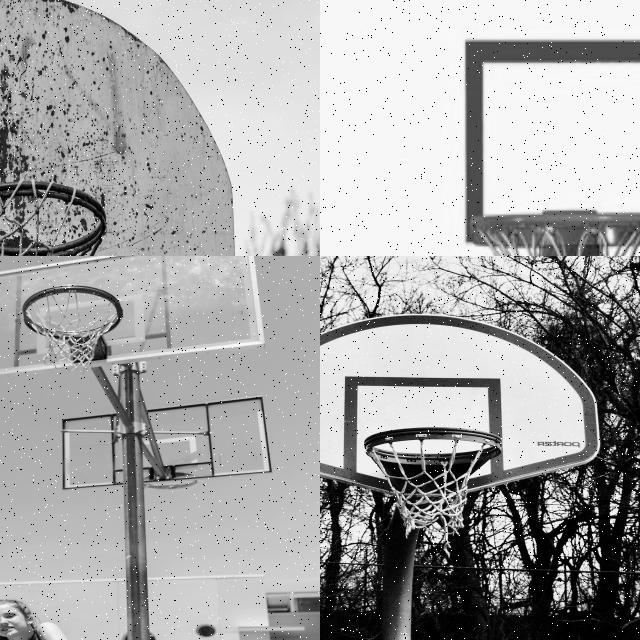backboard: (320, 0, 640, 256), (320, 296, 609, 526), (0, 0, 231, 256), (61, 398, 272, 489)
